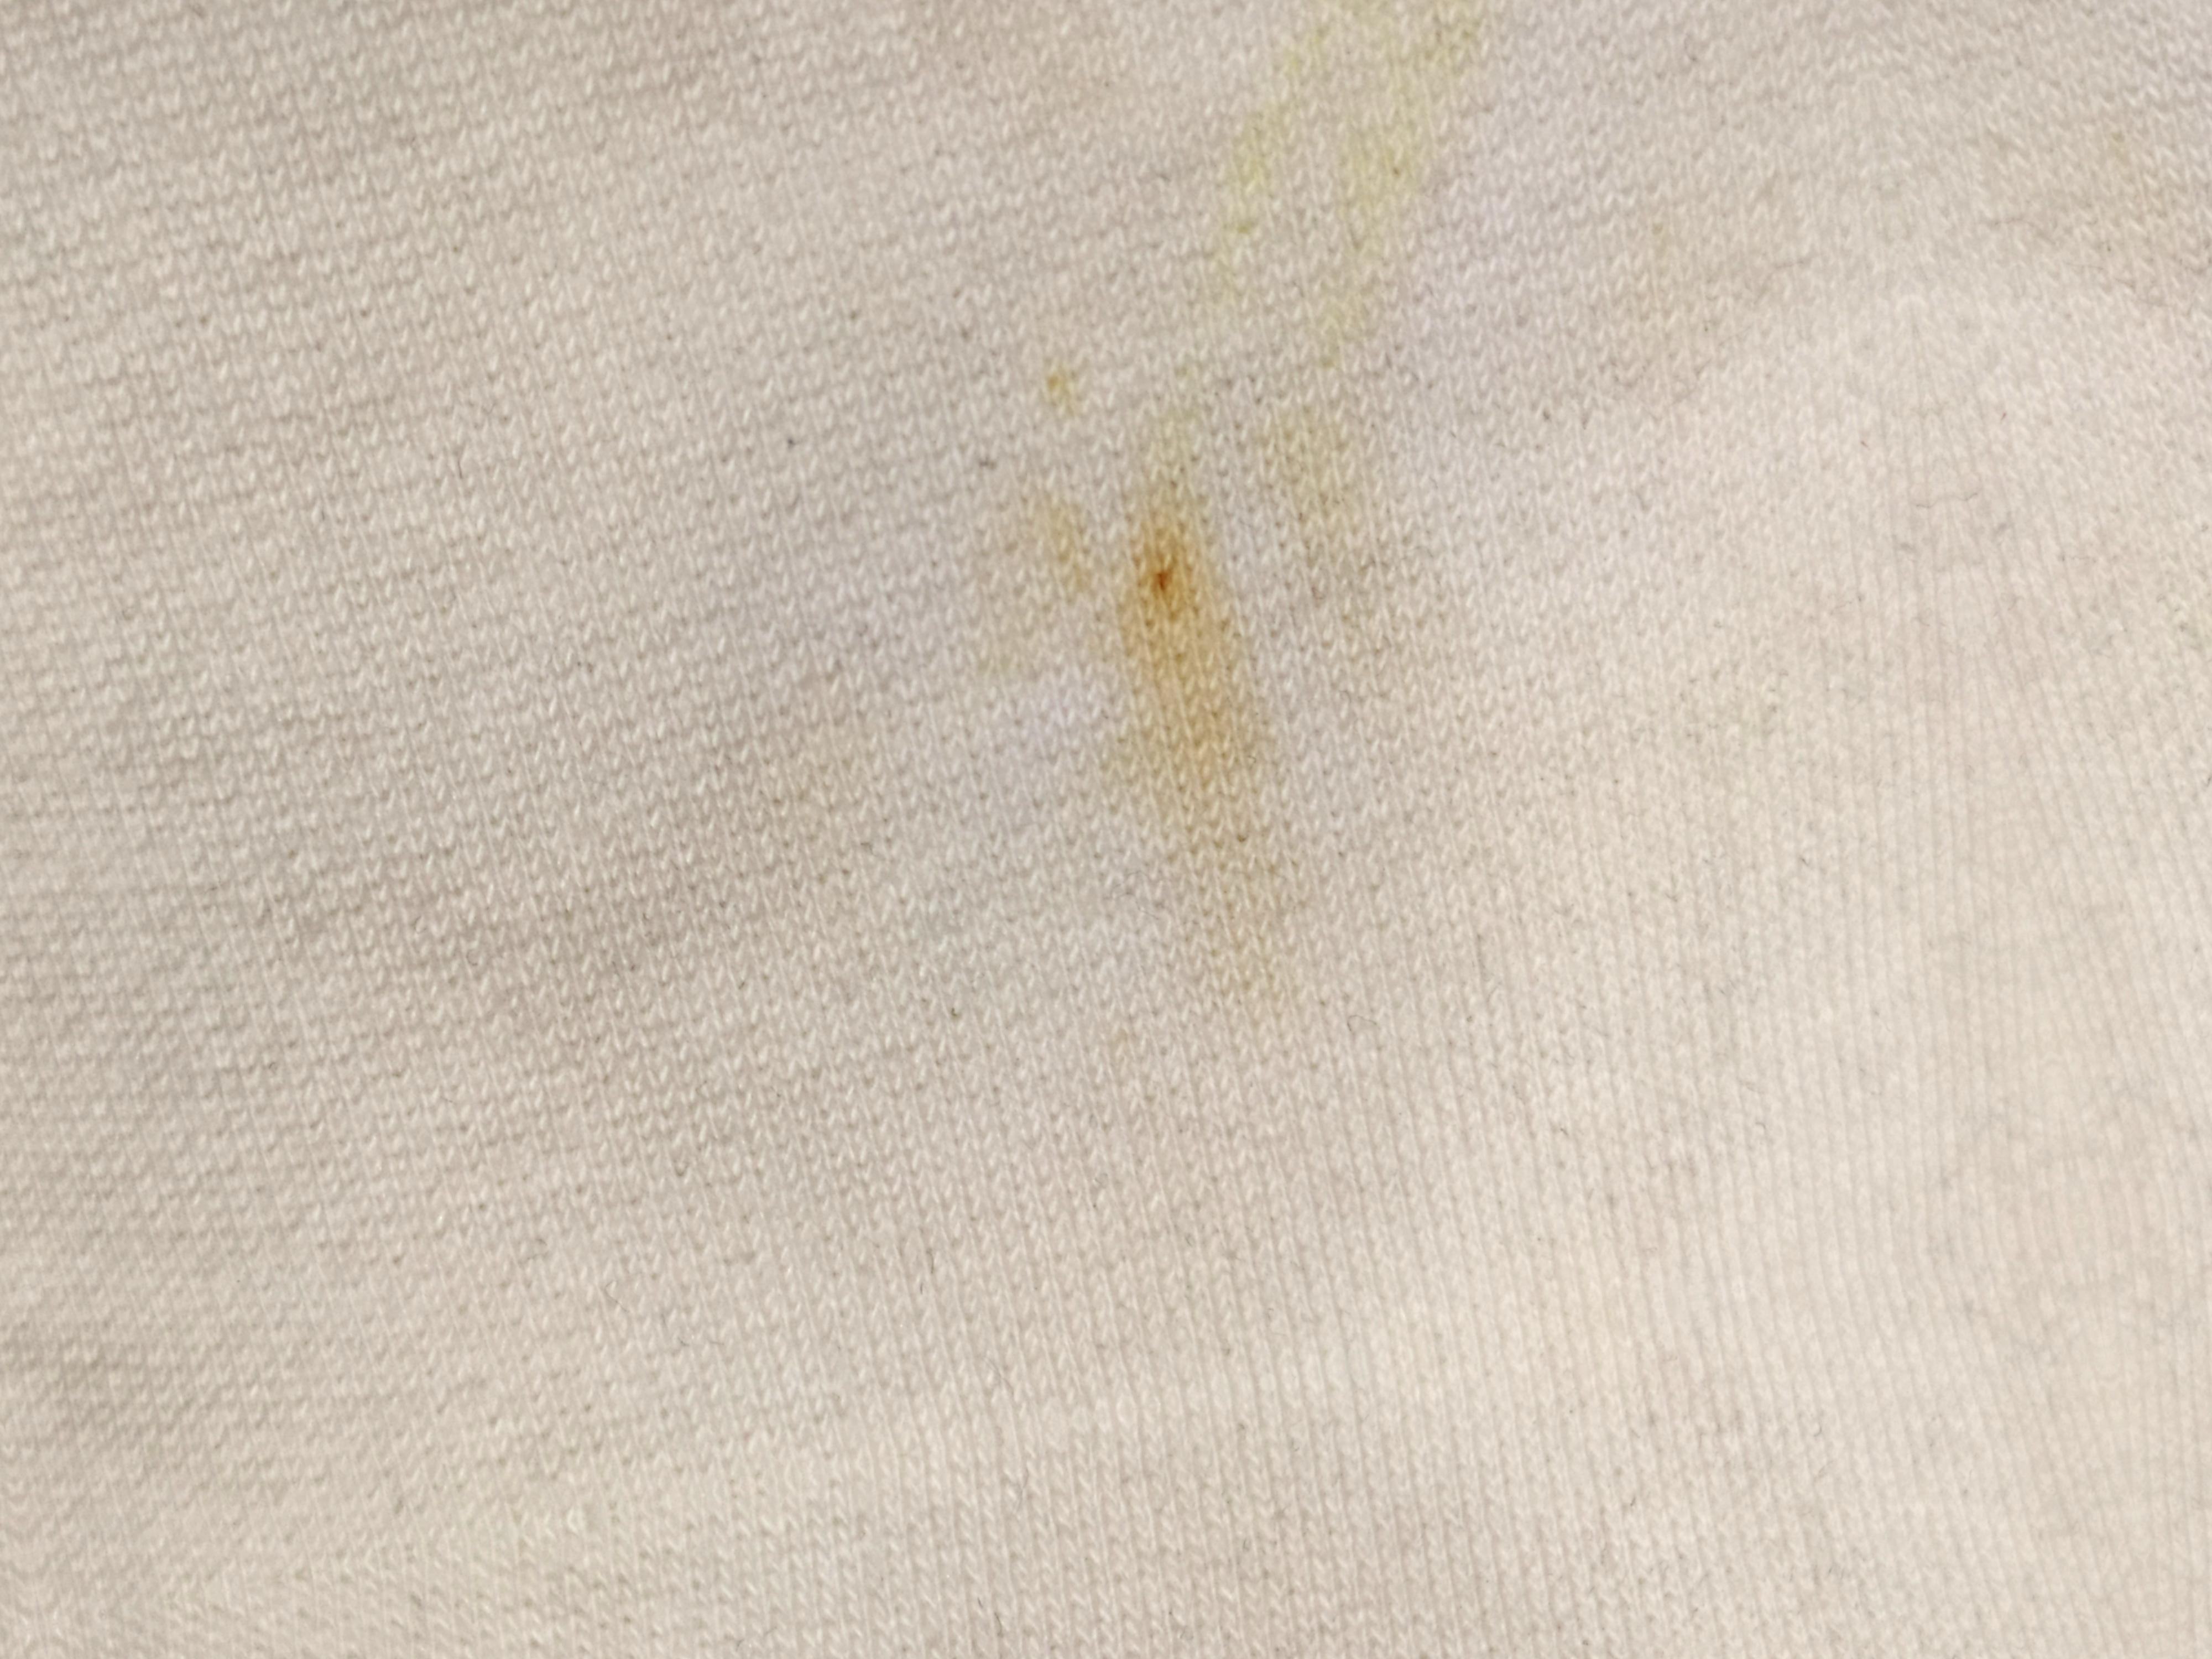stain: (1082, 471, 1285, 805)
